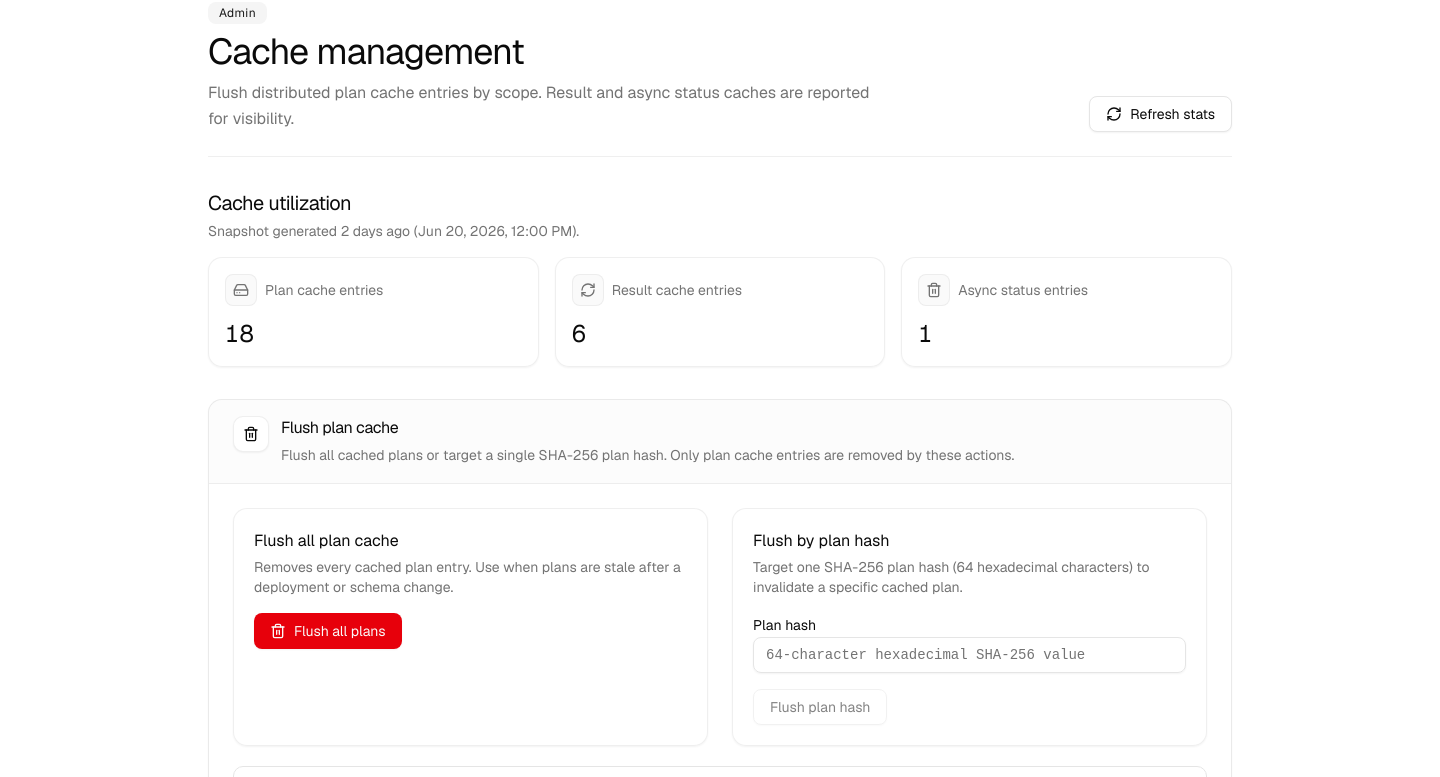
Test: CacheManagementPage › validates plan hash input before flush-by-hash submission
Expected: the heading "Cache utilization" is shown, [208,190,351,216]
Type "invalid-hash" into the field labelled "Plan hash".
click(970, 655); type("invalid-hash")  # box [753,637,1186,673]
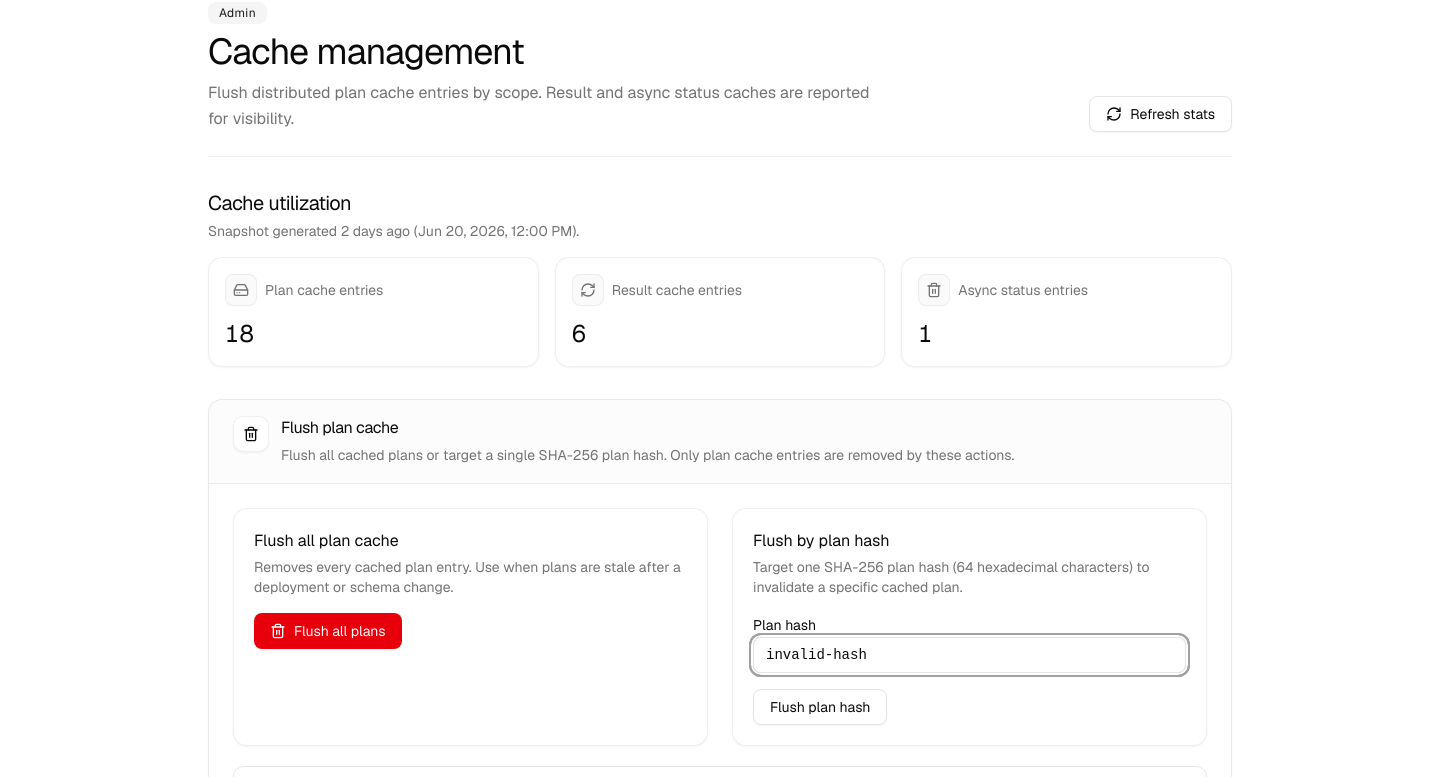
Click the button "Flush plan hash".
click(820, 707)  # box [753,689,888,725]
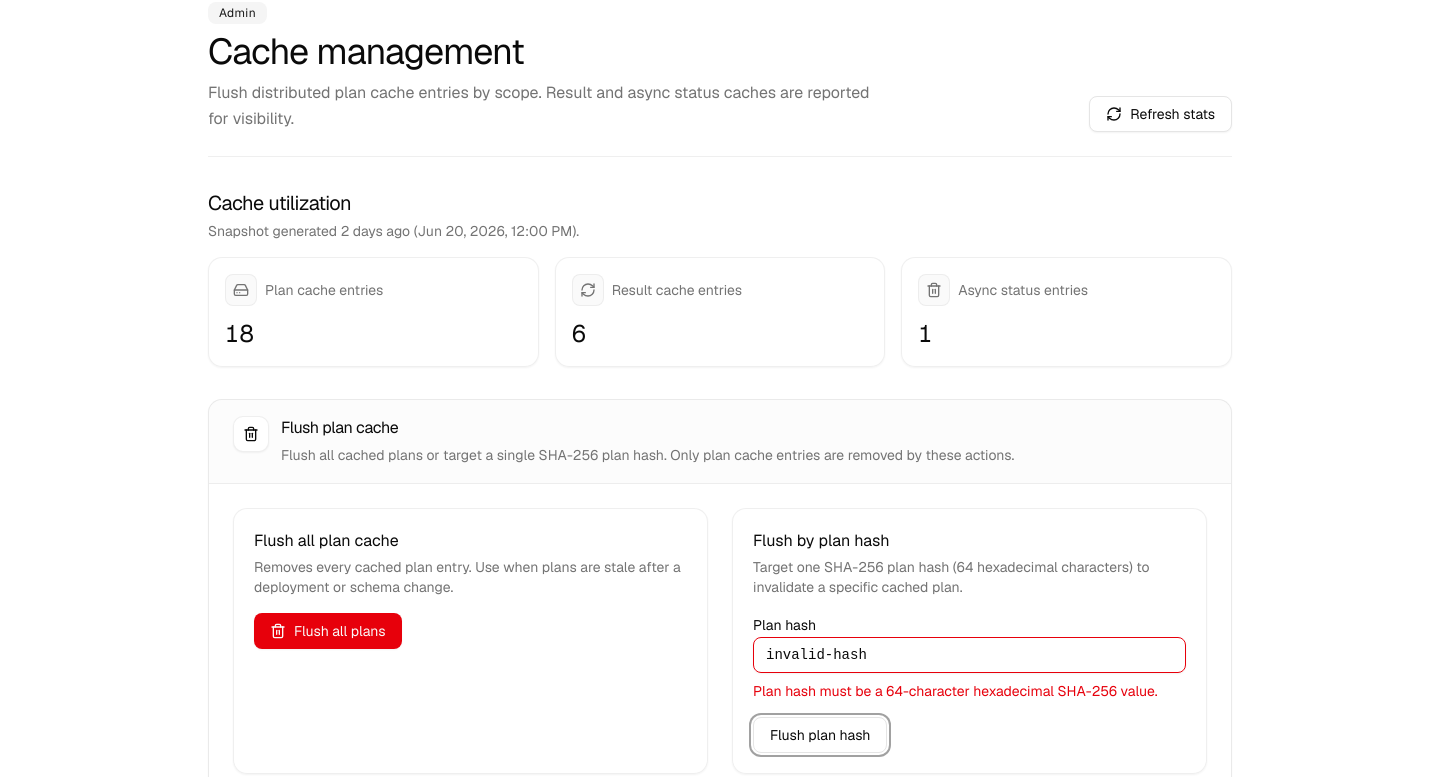
Now the text "Plan hash must be a 64-character hexadecimal SHA-256 value." is shown, box [753,681,1186,701]
